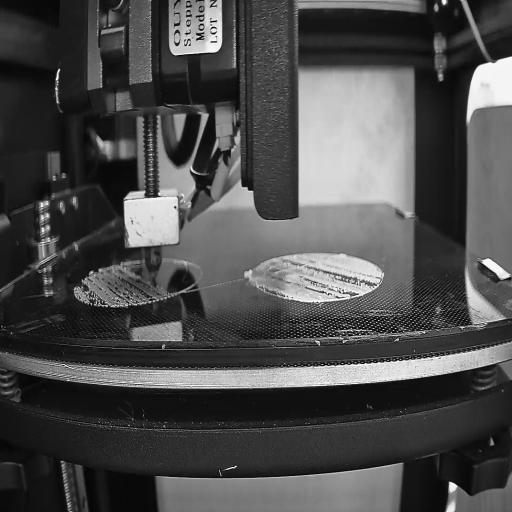under_extrusion: (256, 258, 381, 302), (77, 268, 172, 303)
